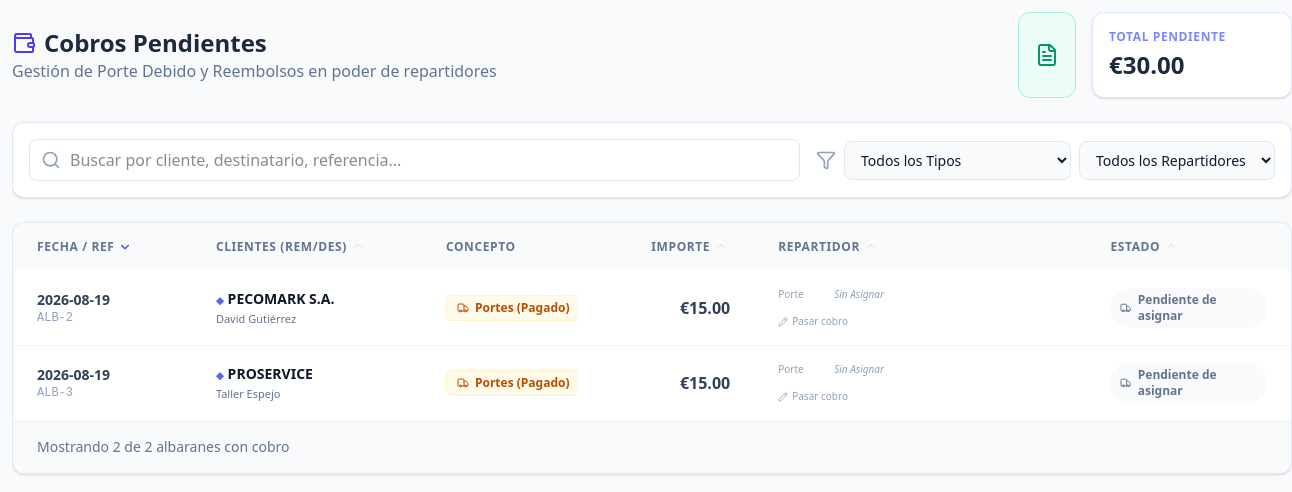
Scenario: PendingCollections · buscador › encuentra por el destinatario, no sólo por quien paga
In the field with placeholder "Buscar por cliente, destinatario, referencia...": point(414, 160) top-left (29, 139), bottom-right (800, 181), type "david gutierrez"
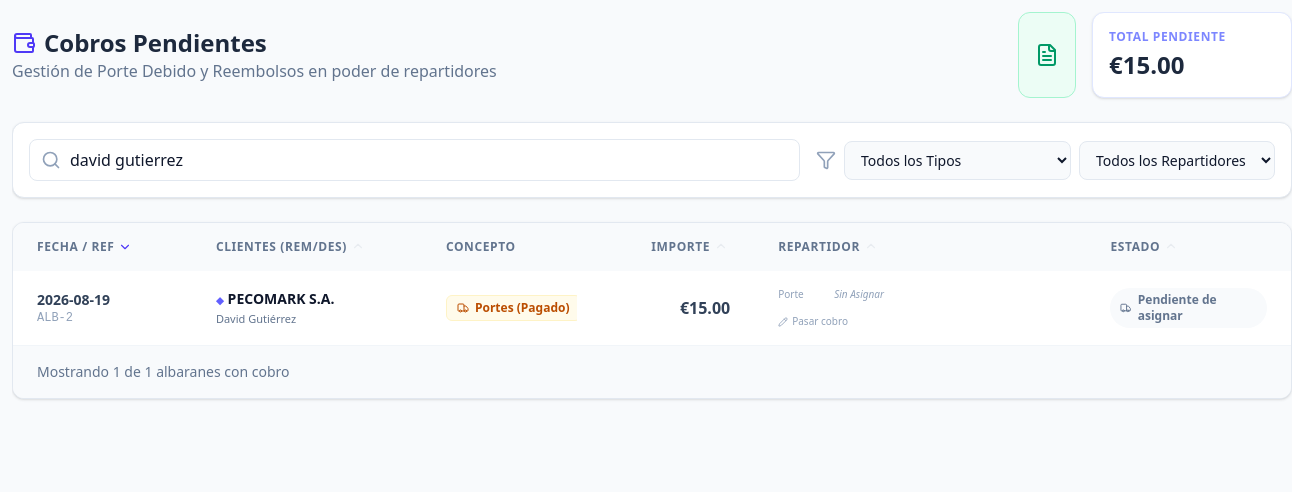
Expected: the text "ALB-2" is shown, top-left (37, 311), bottom-right (73, 325)
Expected: the text "ALB-3" is gone
